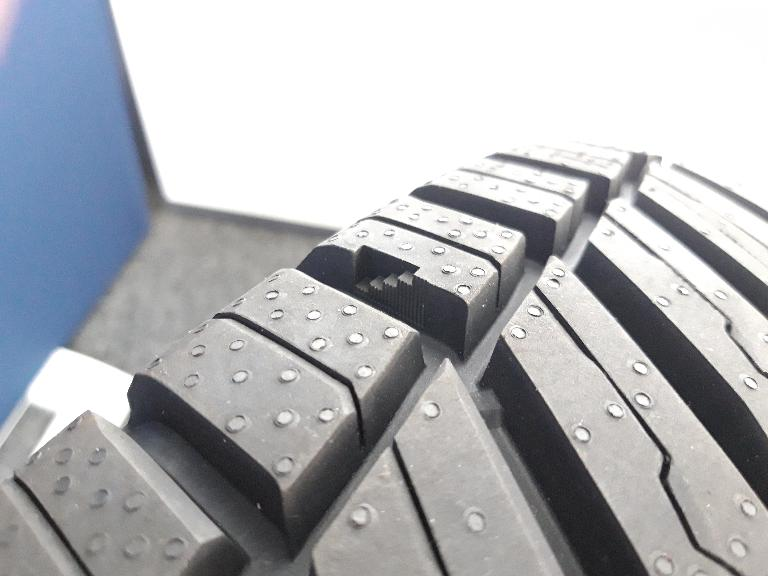temoin:100: (351, 243, 429, 332)
